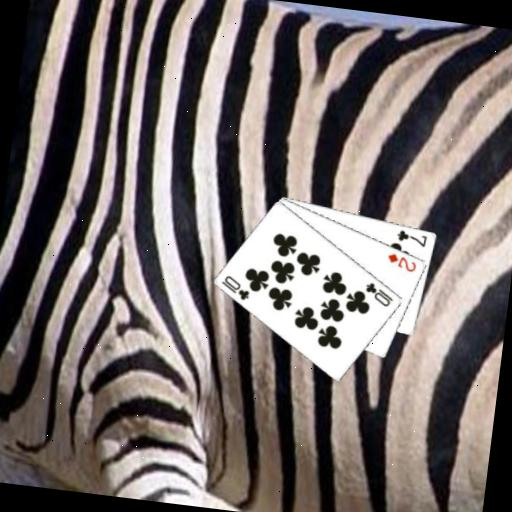10C: (217, 271, 254, 302), (362, 279, 397, 309)
2D: (384, 250, 420, 274)
7C: (394, 226, 430, 249)
